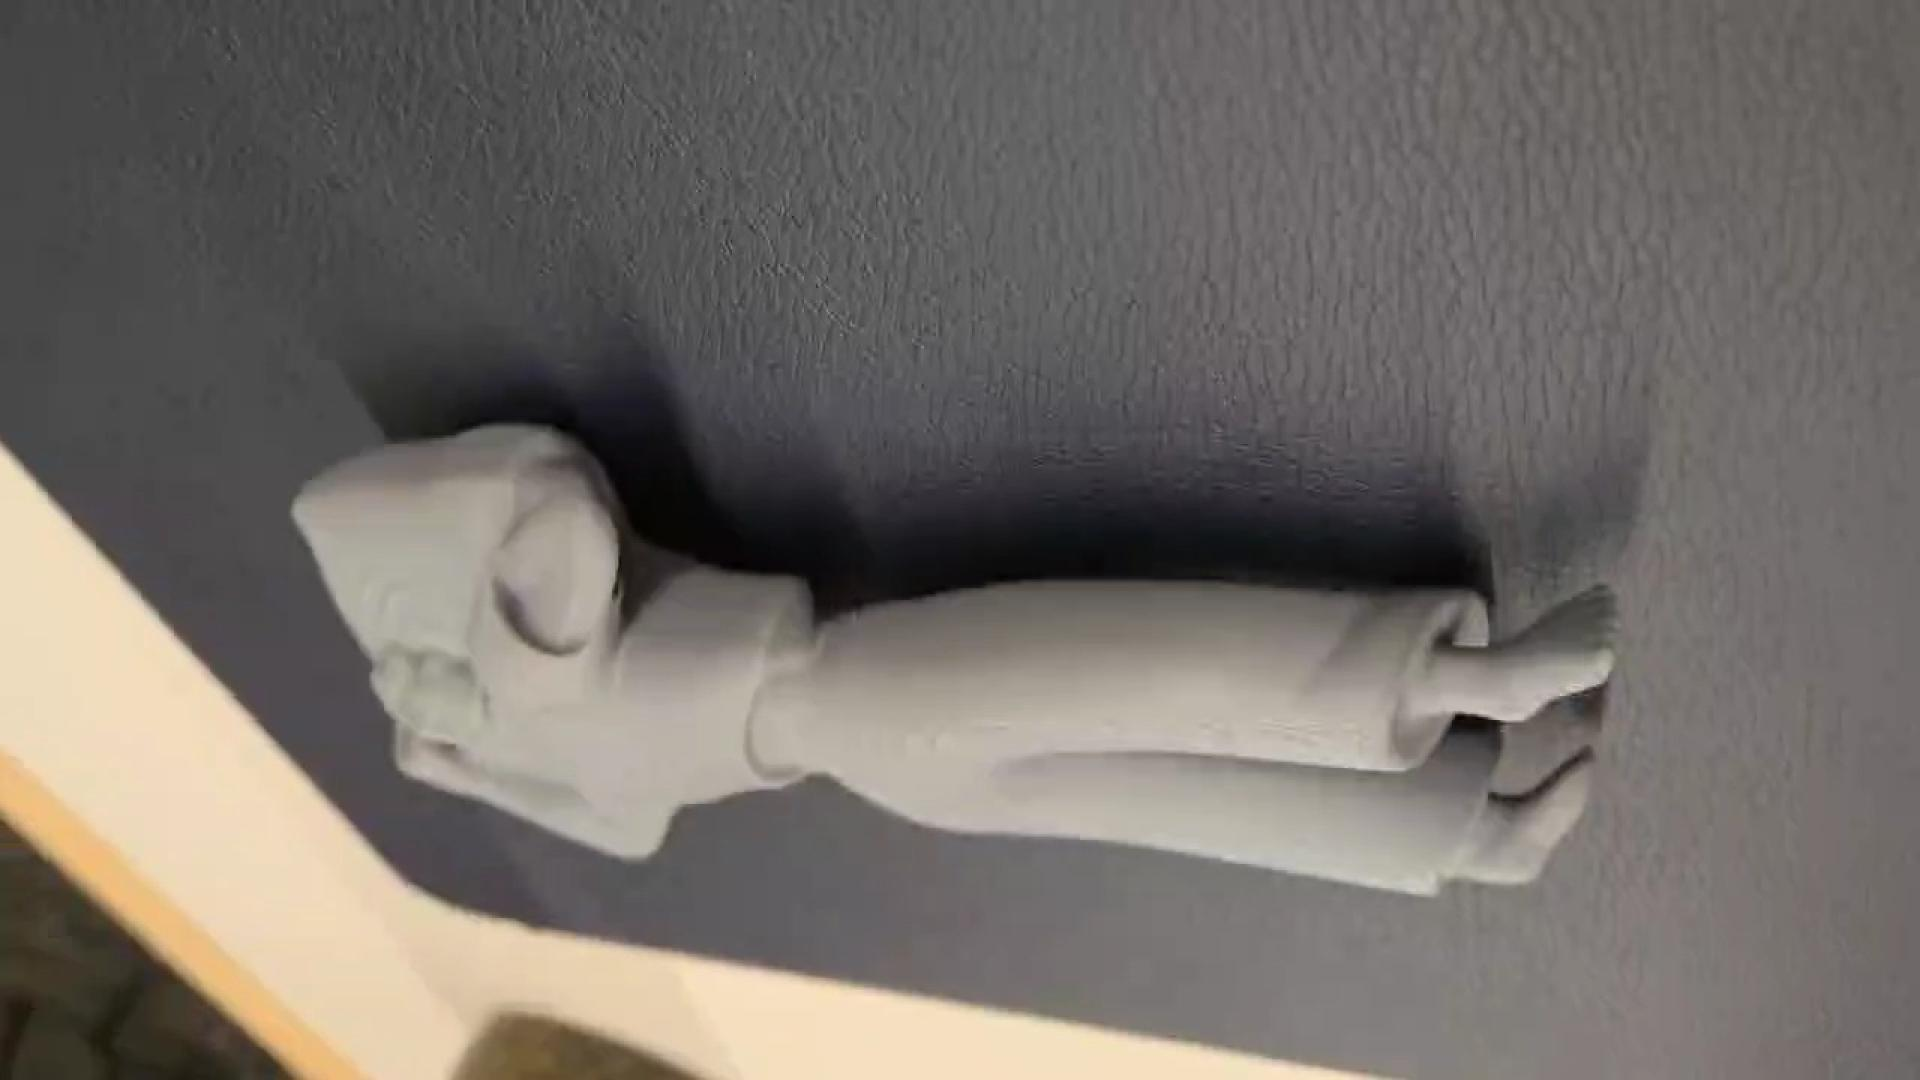Bad-style: (298, 434, 1629, 897)
